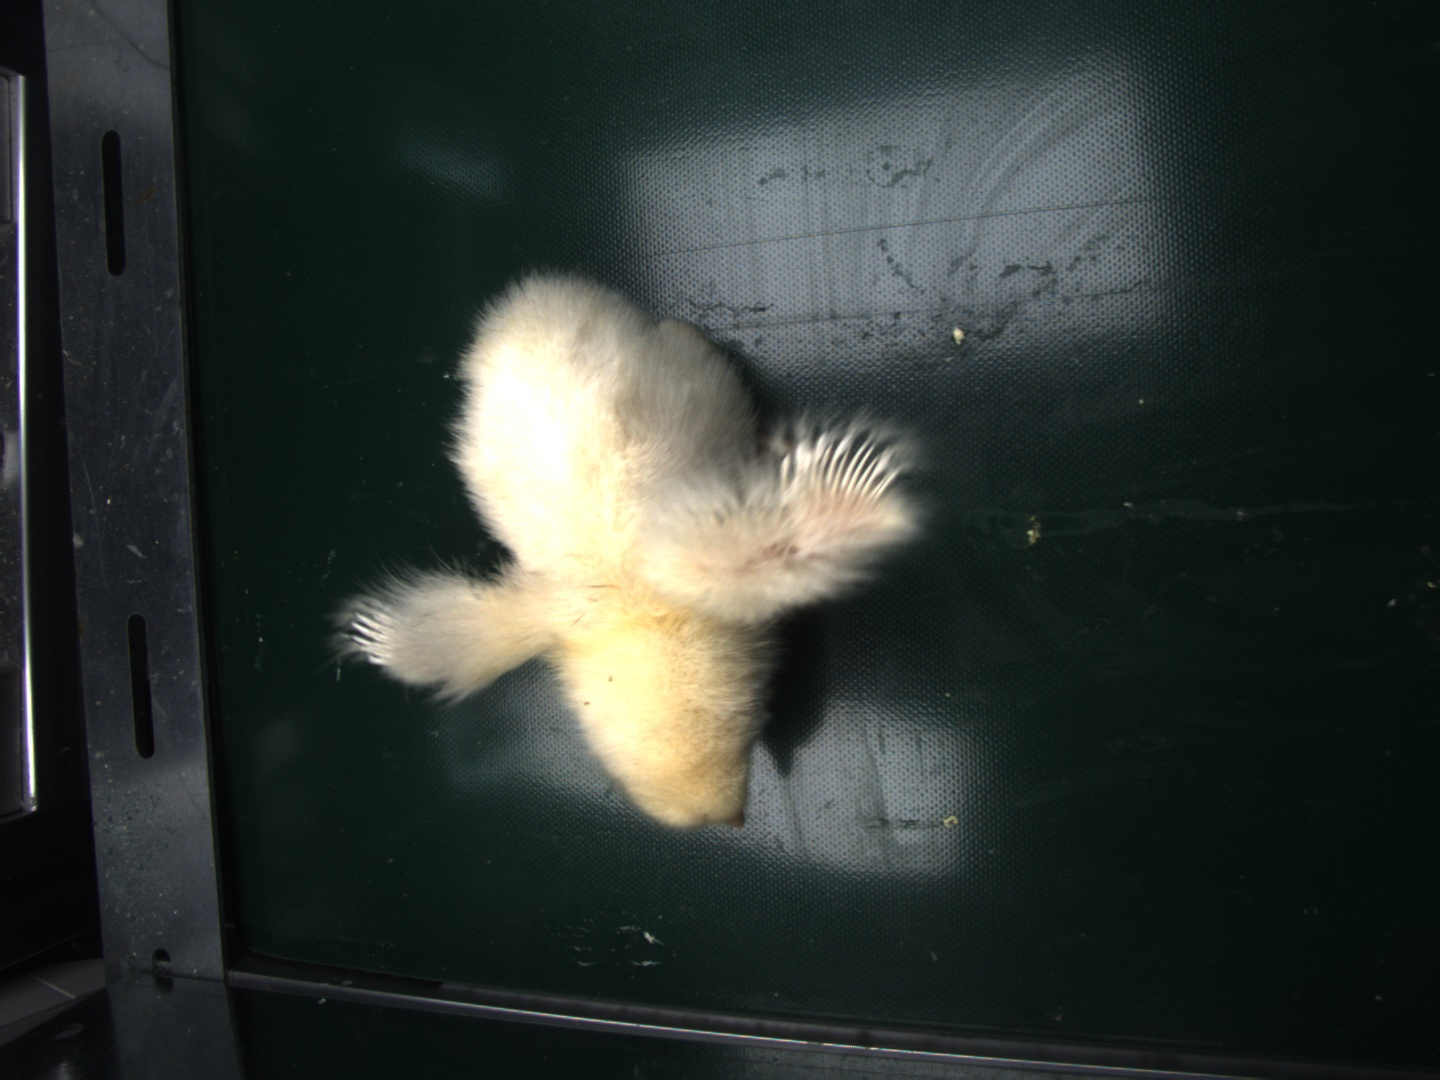male: (783, 433, 901, 503)
